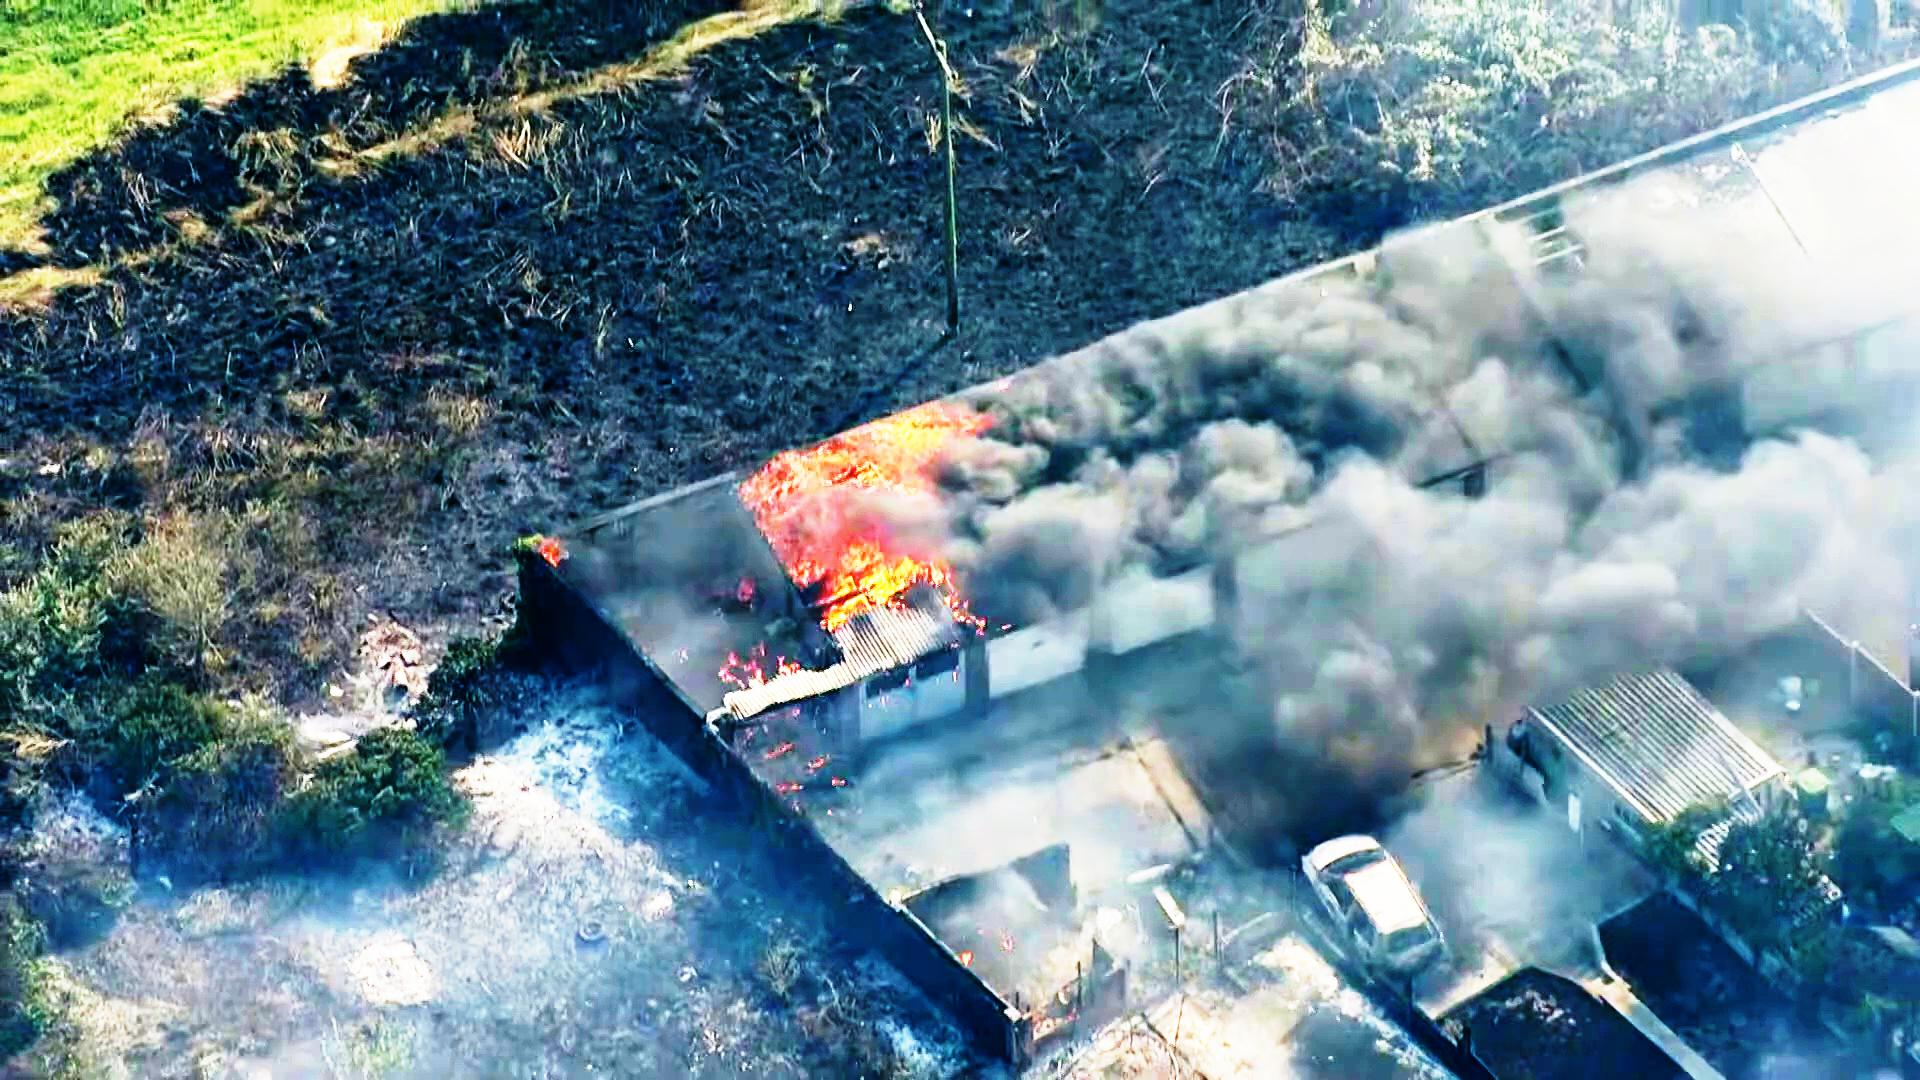fire: (773, 413, 981, 612)
smoke: (1222, 270, 1718, 695), (967, 315, 1403, 595)
